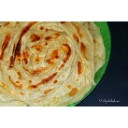parota: (1, 20, 95, 97)
